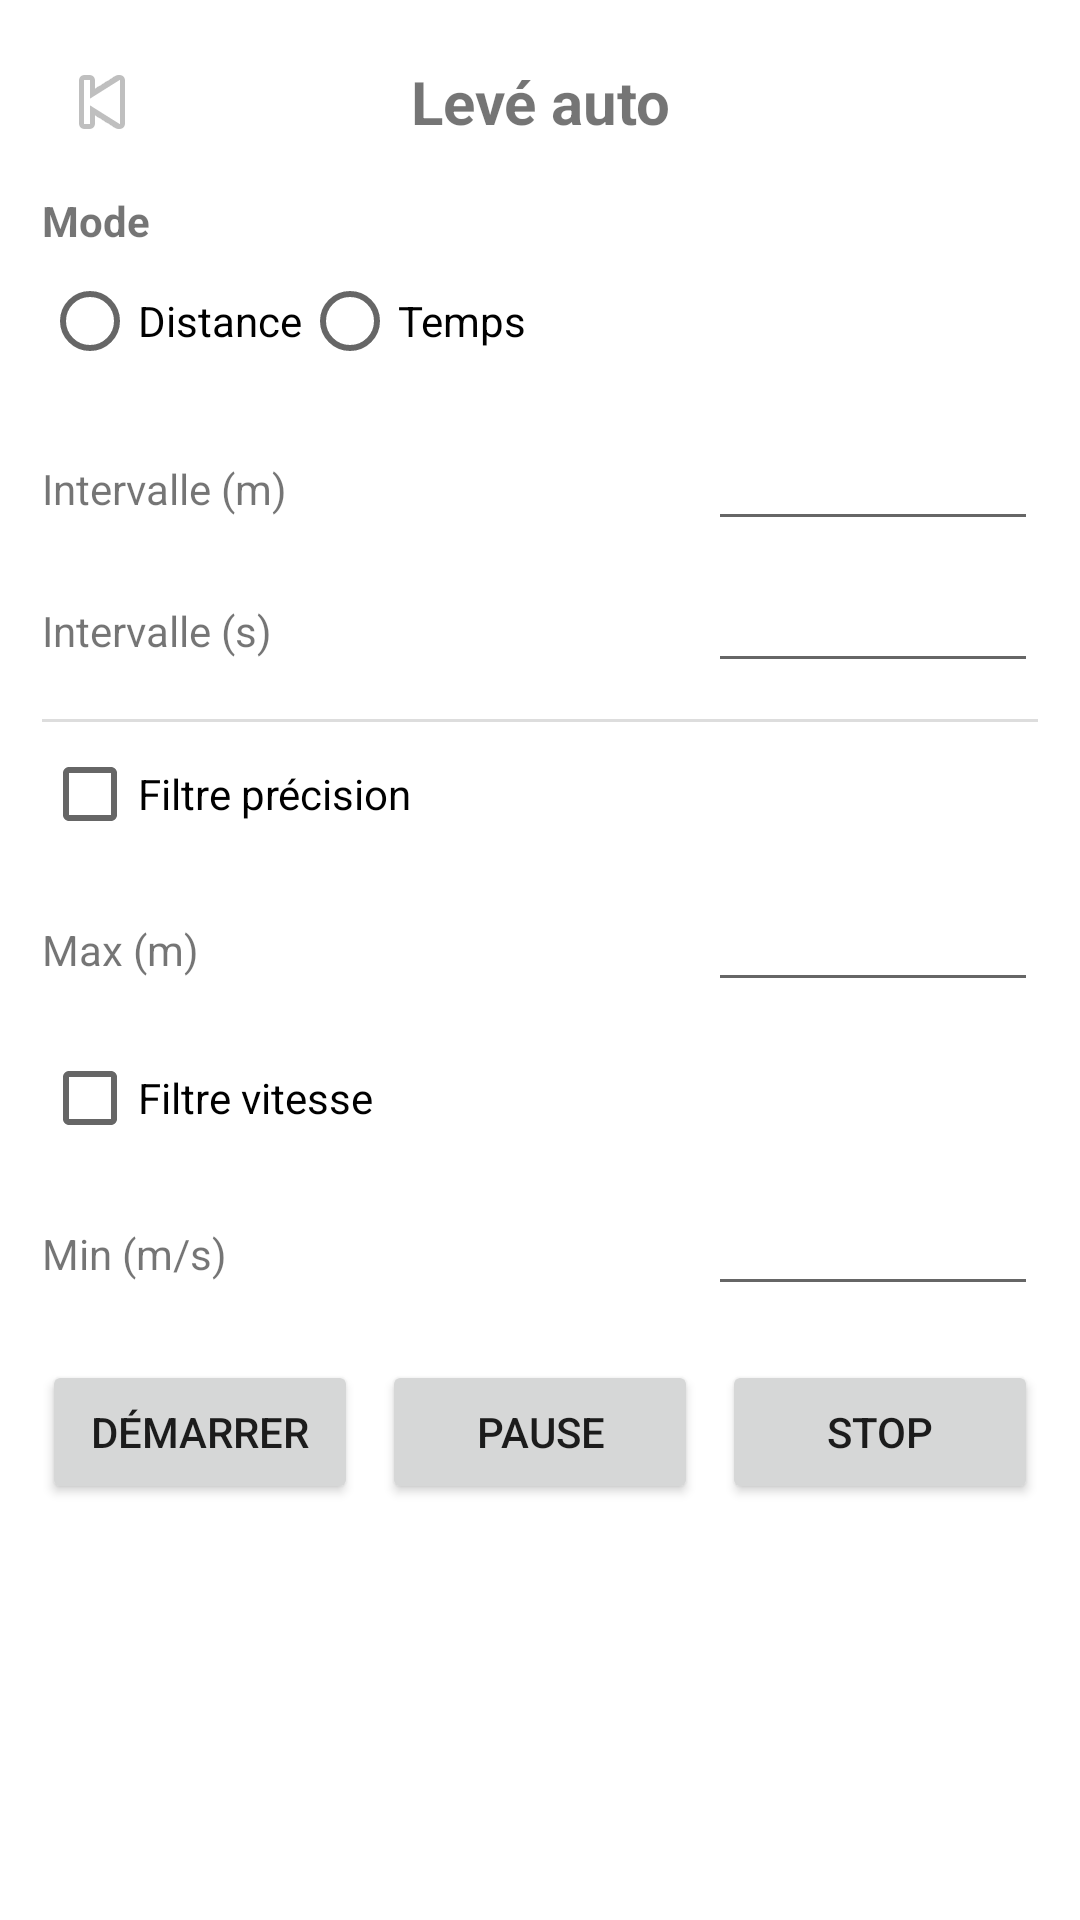

Screen size 1080px×1920px. Icon name, then its center in pixels as (x=x, y=y):
Retour: (x=102, y=102)
